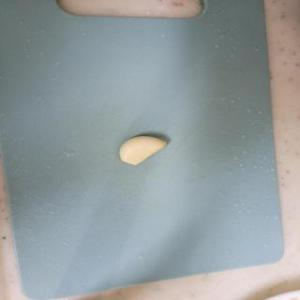garlic: (120, 134, 168, 166)
